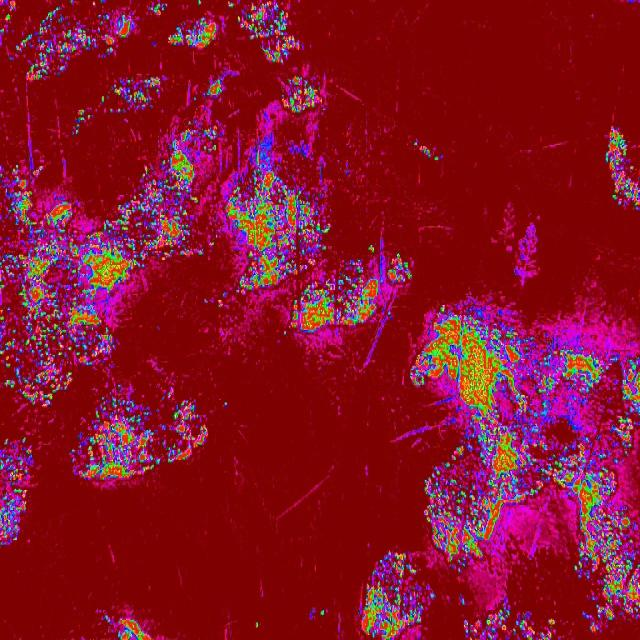fire: (216, 144, 412, 328), (461, 298, 640, 497), (0, 202, 76, 406), (72, 386, 224, 486), (0, 0, 136, 80), (572, 495, 640, 631), (120, 194, 205, 276), (76, 218, 120, 368), (359, 552, 421, 640), (235, 0, 308, 64), (424, 449, 462, 571), (409, 303, 458, 388), (0, 434, 36, 544), (462, 497, 522, 559), (459, 609, 560, 640), (138, 140, 196, 192), (605, 126, 640, 212), (108, 75, 166, 111), (279, 71, 322, 115), (165, 18, 216, 52), (0, 166, 44, 202), (101, 614, 156, 640), (179, 115, 222, 139), (412, 138, 443, 162), (72, 107, 90, 137), (204, 77, 223, 95), (147, 1, 167, 17), (202, 145, 220, 153), (96, 94, 108, 104), (318, 608, 328, 618), (254, 620, 262, 630), (458, 593, 465, 603), (202, 297, 208, 307), (227, 0, 234, 8), (194, 0, 203, 5), (210, 241, 216, 248), (282, 332, 288, 338), (192, 96, 198, 102), (430, 594, 438, 598), (225, 399, 229, 407)
